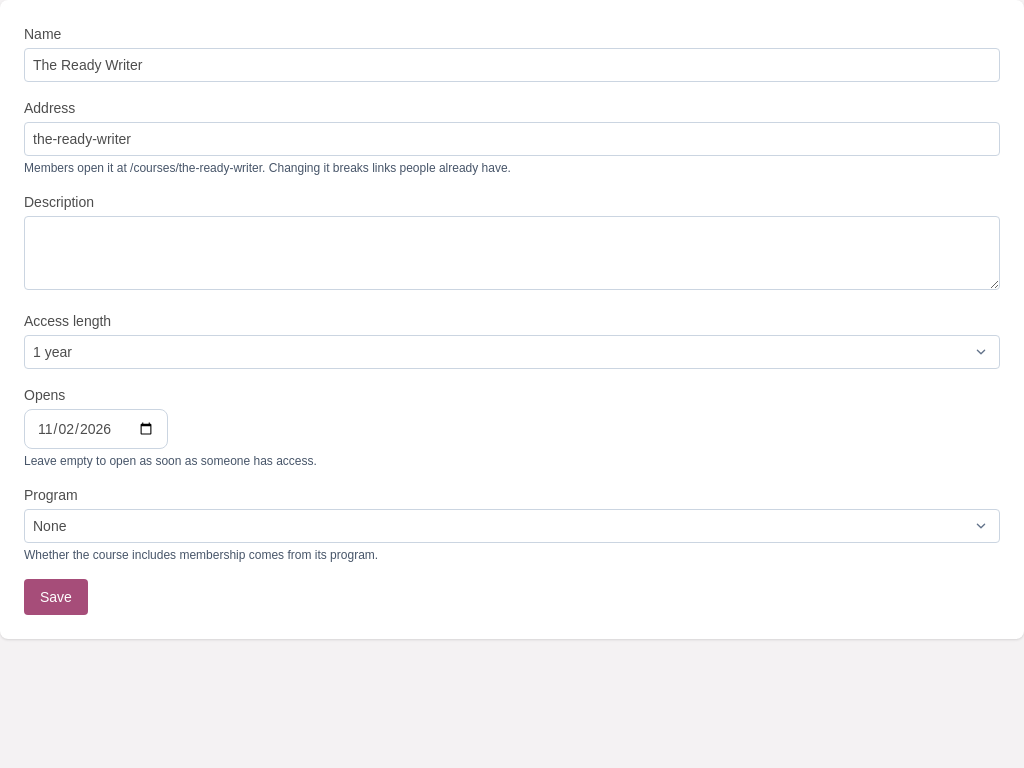
Test case: CourseDetailsForm, editing › starts from the saved details and saves them for that course, then says so and refreshes
Check: the dropdown labelled "Access length" shows "1 year", box [24,335,1000,369]
Check: the date field labelled "Opens" holds "2026-11-02", box [24,409,168,449]
Type "The Ready Writer 2" into the field labelled "Name" at (512, 65), box [24,48,1000,82]
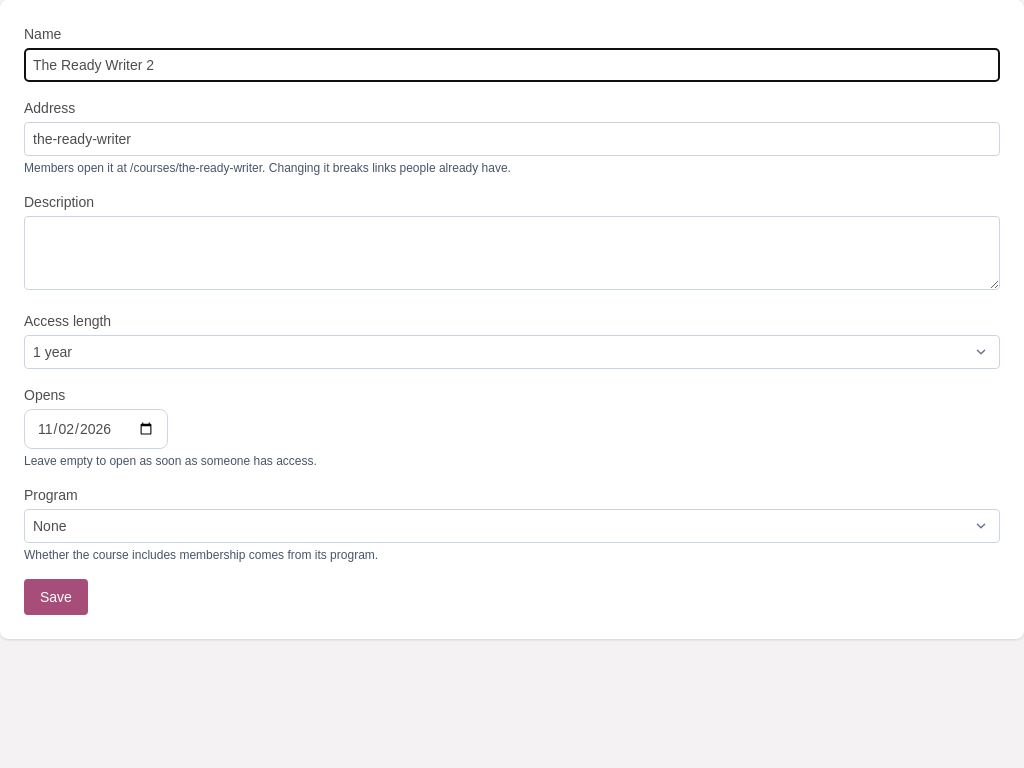
Click the button "Save" at (56, 597), box [24,579,88,615]
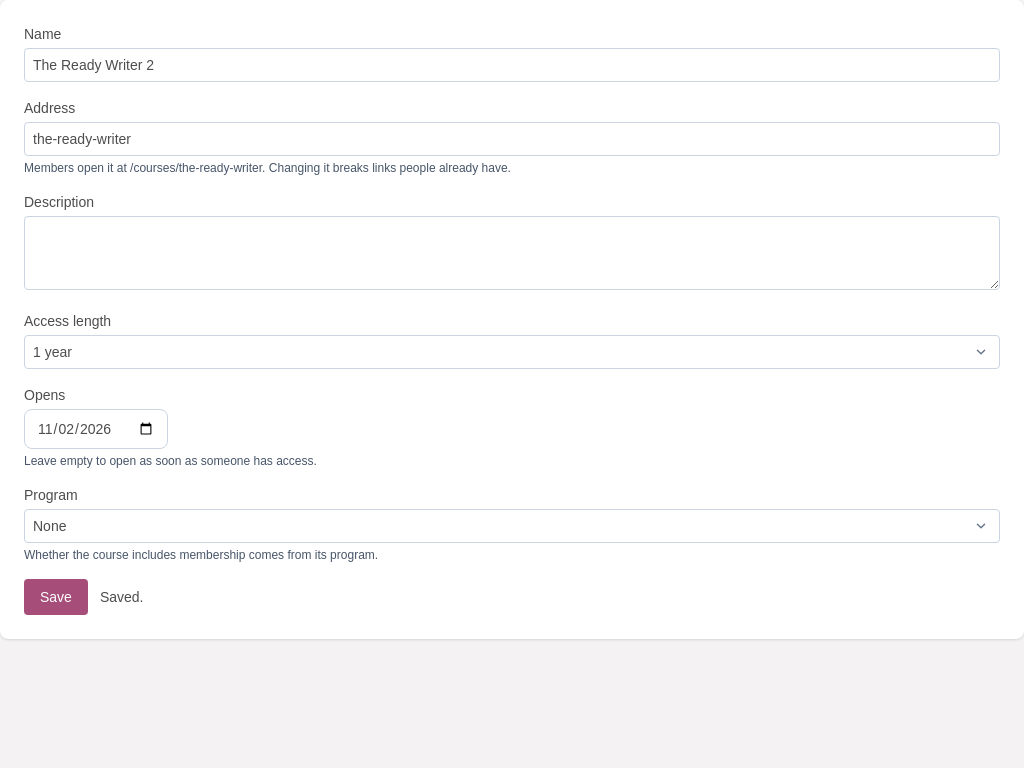
Check: the message reads "Saved.", box [100,589,144,605]
